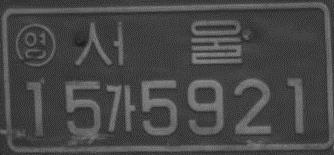1: (21, 78, 50, 139), (283, 74, 311, 135)
2: (231, 77, 272, 136)
5: (139, 78, 181, 135), (63, 78, 103, 136)
9: (186, 78, 226, 135)
가: (104, 82, 139, 135)
서울_D: (72, 19, 243, 67)
영: (15, 23, 58, 69)
